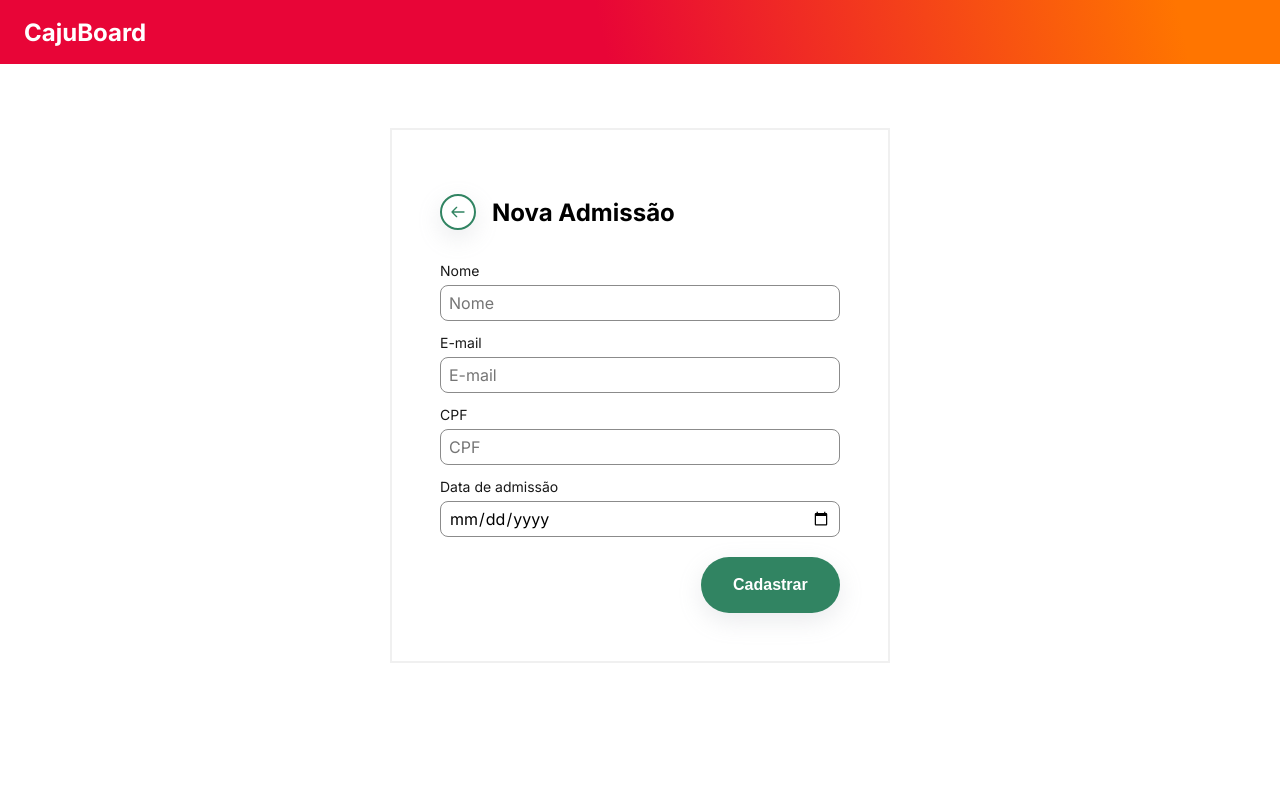
Create admission page › should validate required fields on submit
The image size is (1280, 800).
Click the submit button: (771, 585) [701,557,840,613]
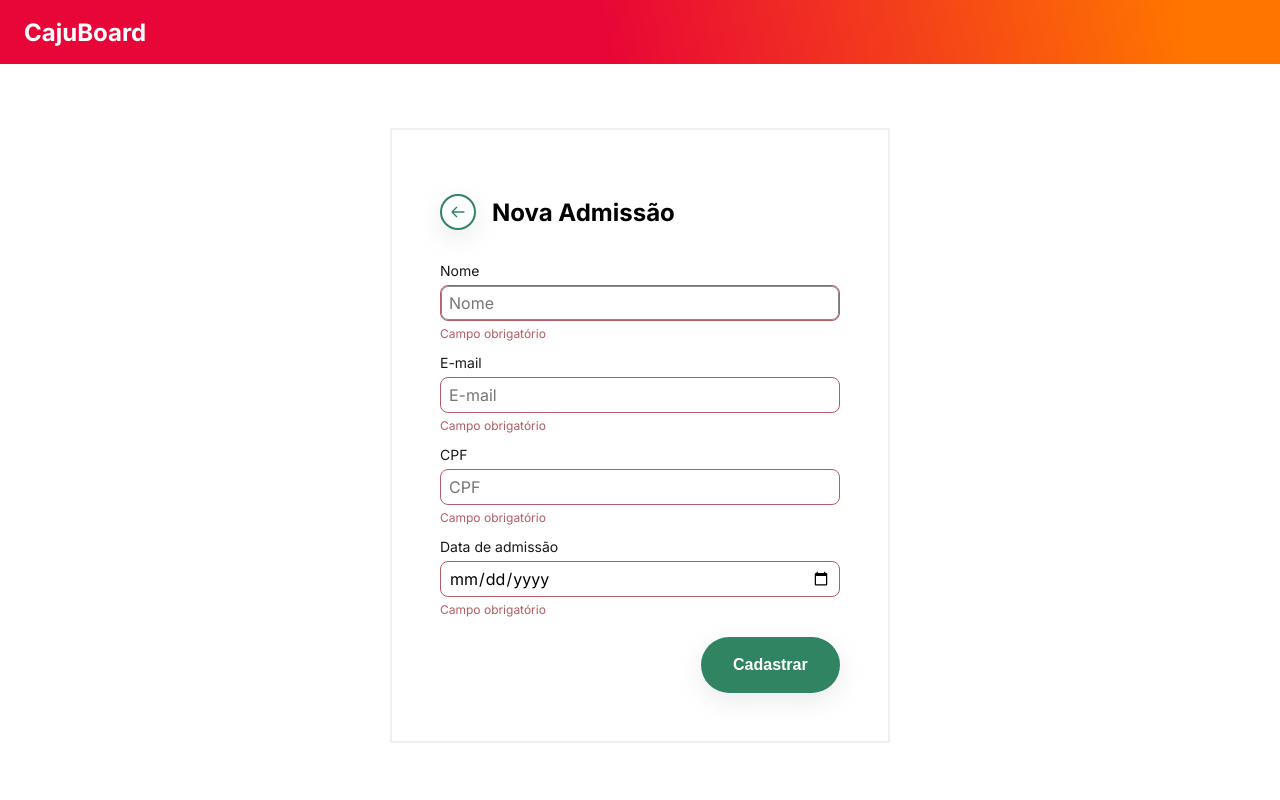
Result: the text "Campo obrigatório" below "Nome" is shown at [440,326,546,341]
Result: the text "Campo obrigatório" below "E-mail" is shown at [440,418,546,433]
Result: the text "Campo obrigatório" below "CPF" is shown at [440,510,546,525]
